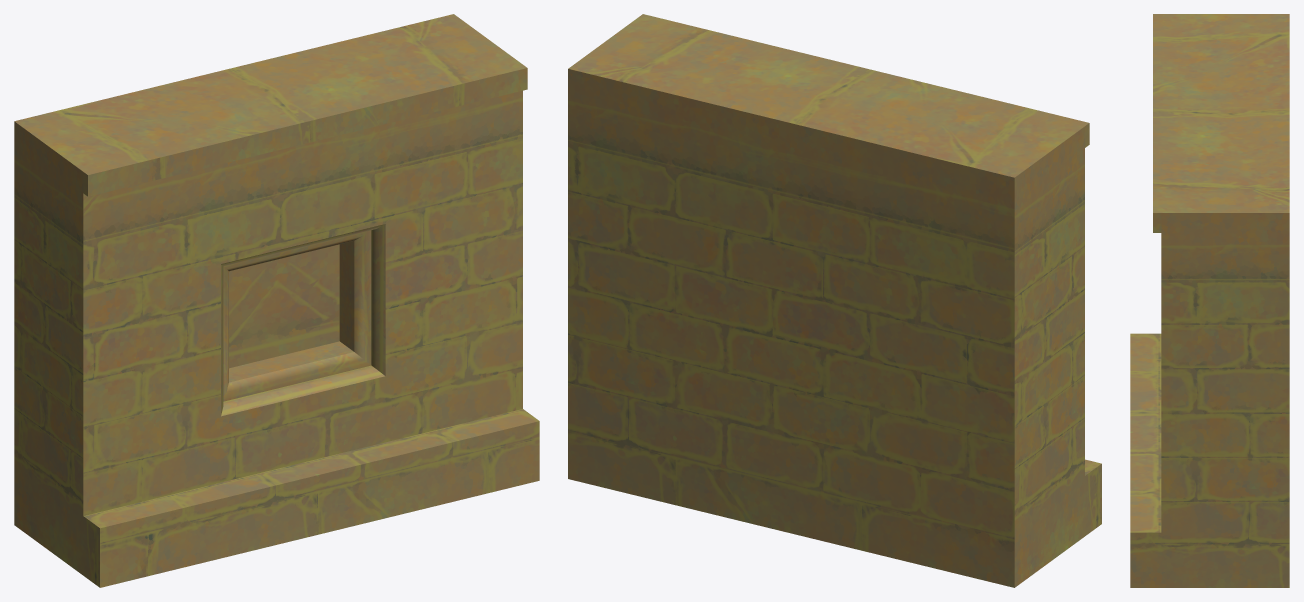
File: Wall.fbx
3 views of the same model, side by side, from view 1: azimuth 30°, elevation 25°; view 2: azimuth 150°, elevation 25°; view 3: azimuth 270°, elevation 25° (orthographic). The views are drawn at different scales.
Parts seen in each view (by area): view 1: pCube19; view 2: pCube19; view 3: pCube19.
Boxes of the visible parts, left/top/right/bottom form: pCube19: left=14, top=14, right=539, bottom=587; pCube19: left=568, top=14, right=1101, bottom=587; pCube19: left=1130, top=14, right=1289, bottom=587.
Size of the model in its own units: 745 by 654 by 252.
